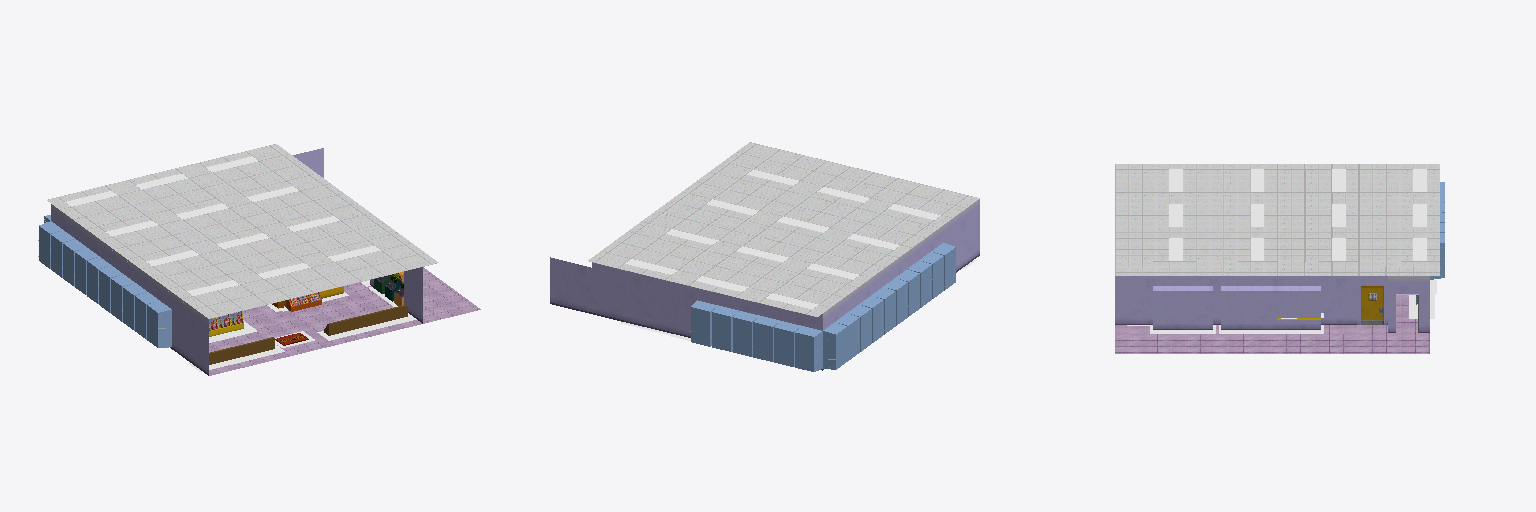
The picture shows the model from 3 angles: view 1: azimuth 30°, elevation 25°; view 2: azimuth 150°, elevation 25°; view 3: azimuth 270°, elevation 25°; orthographic projection.
Parts seen in each view (by area): view 1: KwikEMart; view 2: KwikEMart; view 3: KwikEMart.
Boxes of the visible parts, x1,y1,x2,y2 form: KwikEMart: [38, 144, 480, 375]; KwikEMart: [550, 142, 979, 371]; KwikEMart: [1115, 164, 1444, 353].
Size of the model in its own units: 18.27 by 3.54 by 18.29.
35 materials, 33 textured.